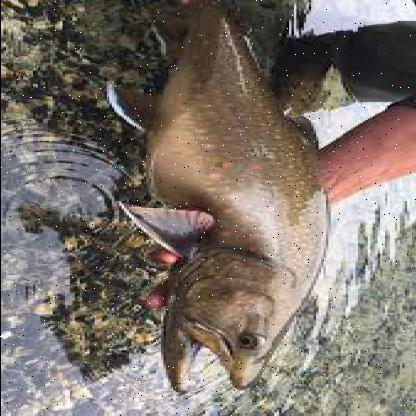fish: (107, 0, 346, 405)
